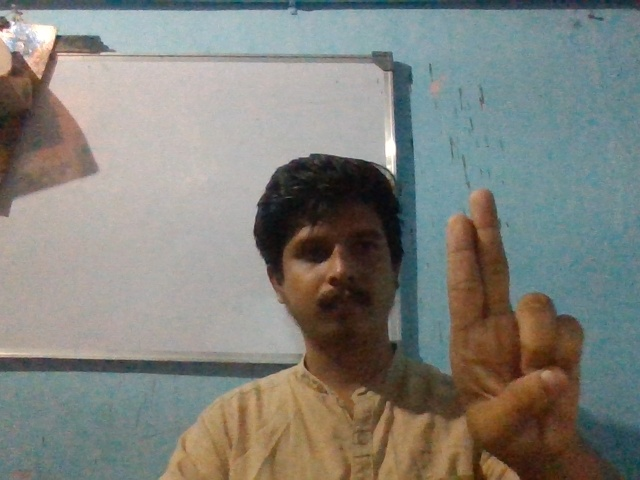Prana: (434, 178, 604, 462)
